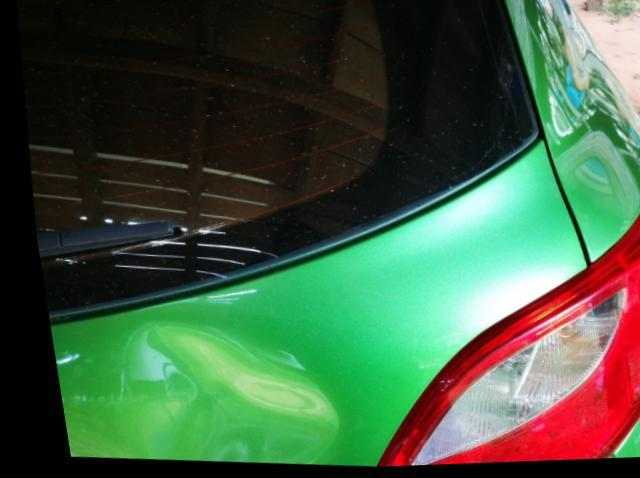dent: (108, 329, 324, 466)
